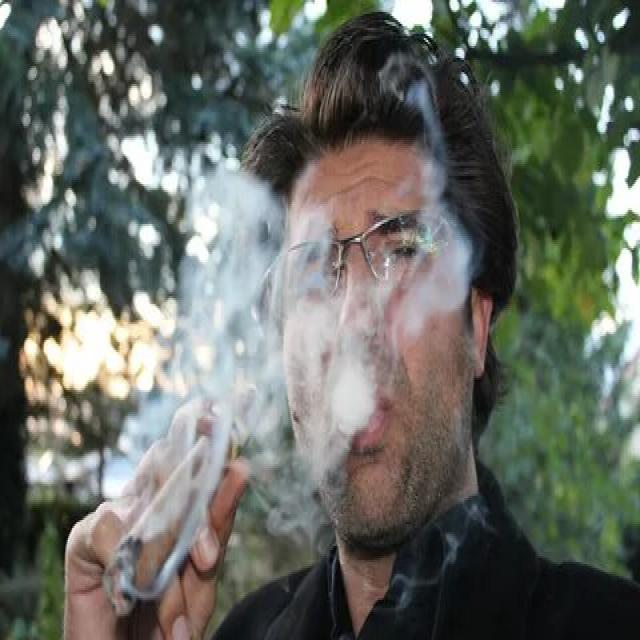smoke: (97, 374, 263, 632)
